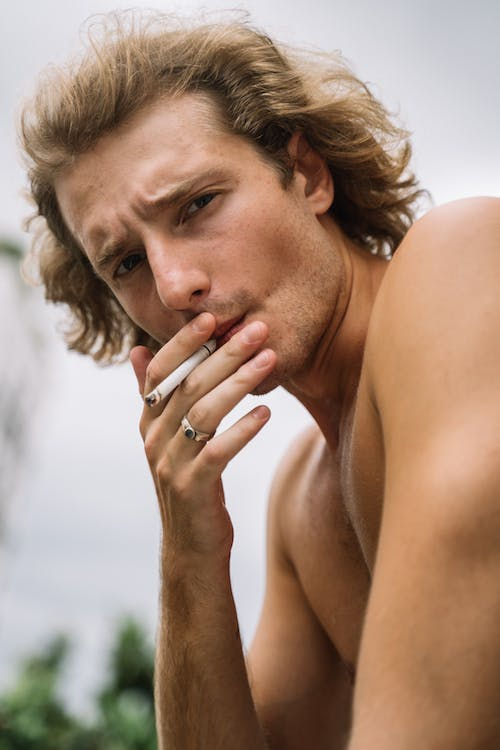cigarette: (141, 338, 218, 409)
